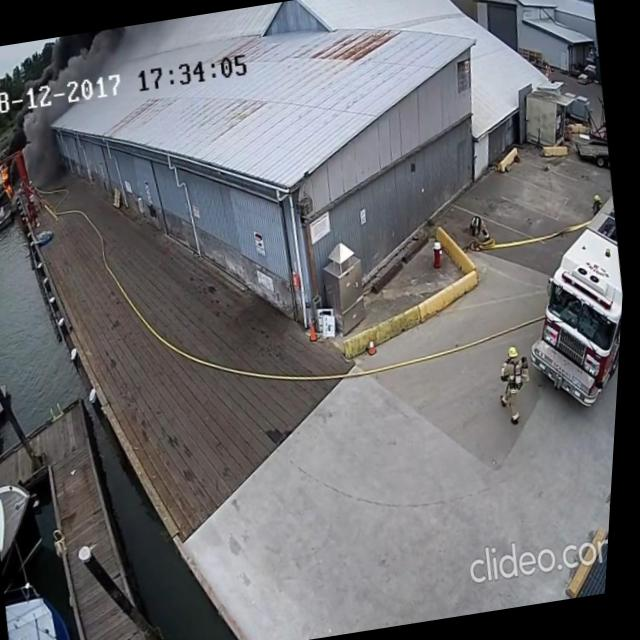fire: (0, 162, 19, 202)
